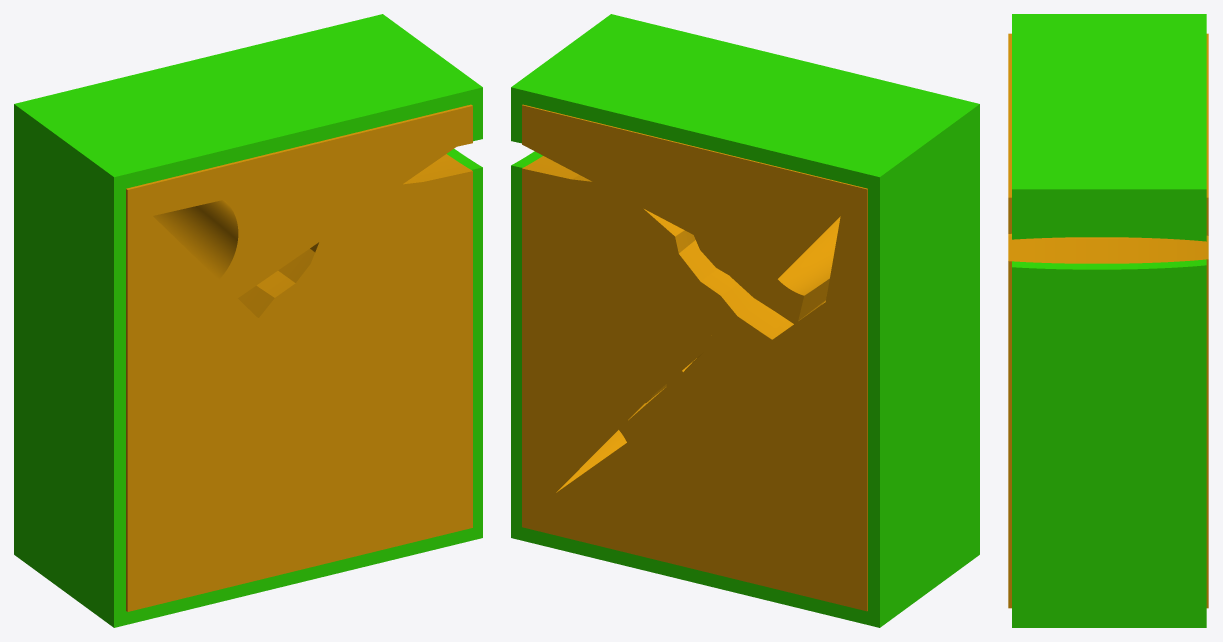
File: forUnity3.fbx
3 views of the same model, side by side, from view 1: azimuth 30°, elevation 25°; view 2: azimuth 150°, elevation 25°; view 3: azimuth 270°, elevation 25° (orthographic). The views are drawn at different scales.
Parts seen in each view (by area): view 1: 2.003; view 2: 2.003; view 3: 2.003.
Part boxes in pixels (x1=…): 2.003: x1=14, y1=14, x2=482, y2=627; 2.003: x1=511, y1=14, x2=979, y2=627; 2.003: x1=1008, y1=14, x2=1208, y2=627.
Size of the model in its own units: 421 by 491 by 203.
